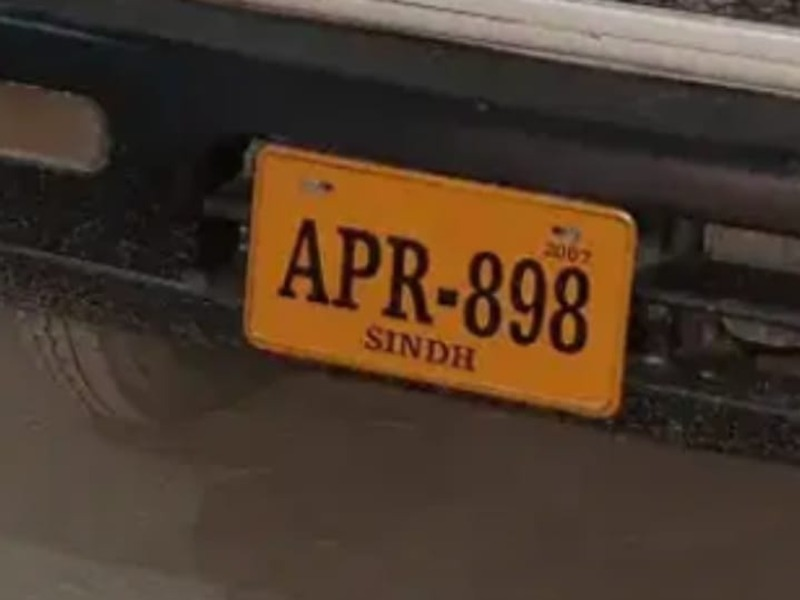License Plate: (243, 139, 632, 423)
